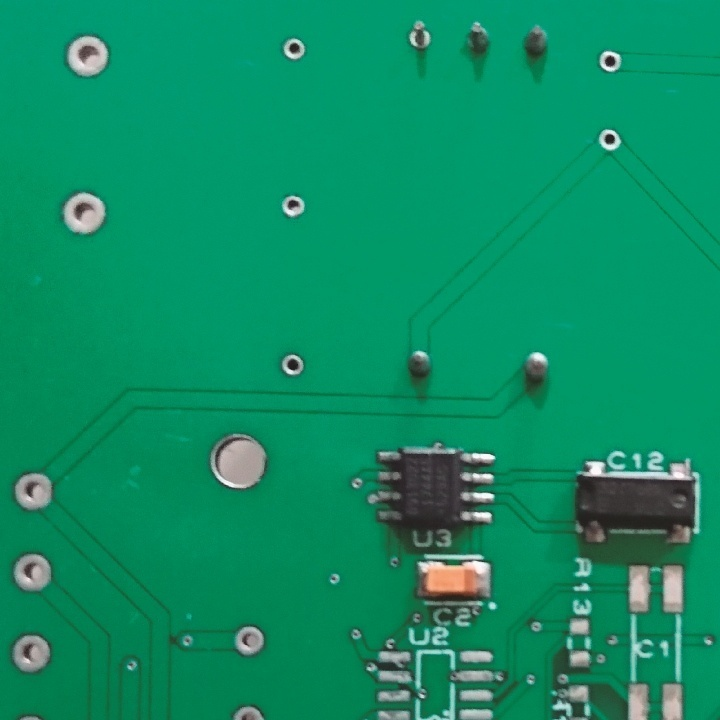F: (59, 188, 106, 238), (63, 33, 111, 78), (9, 629, 53, 675), (11, 470, 55, 512), (11, 551, 52, 595), (232, 623, 269, 660), (279, 34, 309, 66), (406, 21, 434, 55), (596, 48, 626, 78), (279, 192, 308, 223), (595, 126, 624, 157), (279, 349, 304, 381), (229, 702, 270, 720)
